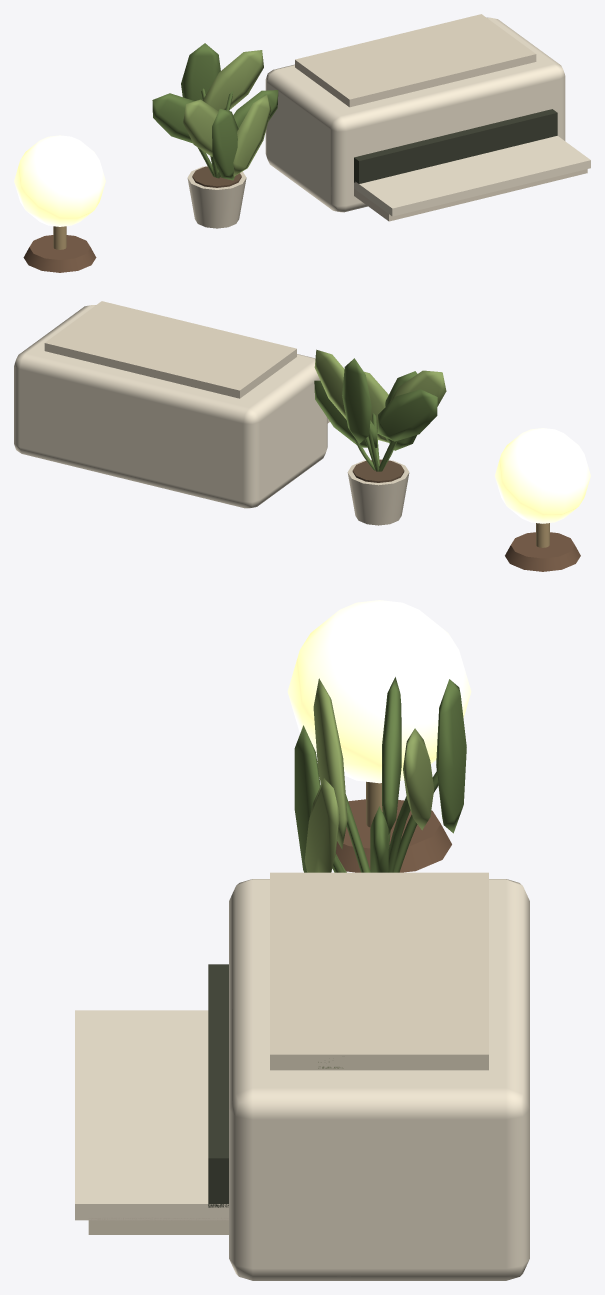
File: study_ref_printer_set.glb
The picture shows the model from 3 angles, top to bottom: view 1: azimuth 30°, elevation 25°; view 2: azimuth 150°, elevation 25°; view 3: azimuth 270°, elevation 25°; orthographic projection. The views are drawn at different scales.
Bounding box in the file's own units: 1.73 × 0.5228 × 0.665.
